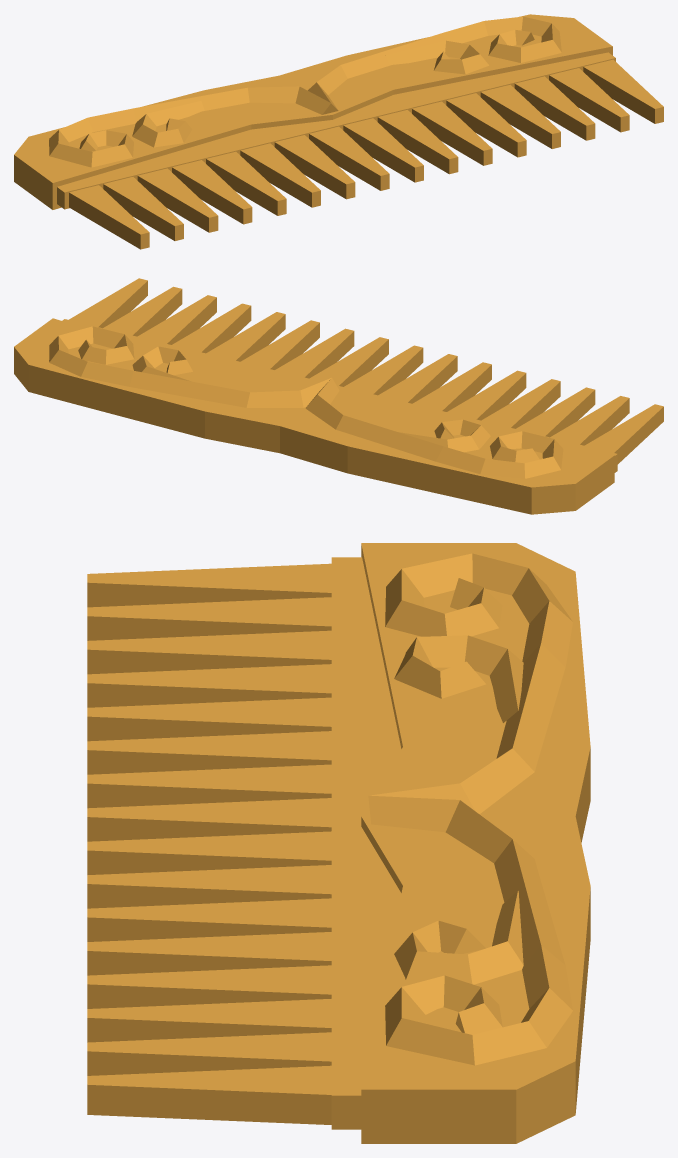
Rendered from SM_Hair_Comb_Victorian.fbx.
3 renders of one model, top to bottom at view 1: azimuth 30°, elevation 25°; view 2: azimuth 150°, elevation 25°; view 3: azimuth 270°, elevation 25°, orthographic. The views are drawn at different scales.
Parts seen in each view (by area): view 1: hair-comb-victorian; view 2: hair-comb-victorian; view 3: hair-comb-victorian.
Boxes of the visible parts, <box> form: hair-comb-victorian: <box>14,14,663,249</box>; hair-comb-victorian: <box>14,278,663,514</box>; hair-comb-victorian: <box>87,543,590,1143</box>.
Size of the model in its own units: 0.205 by 0.0138 by 0.0797.
